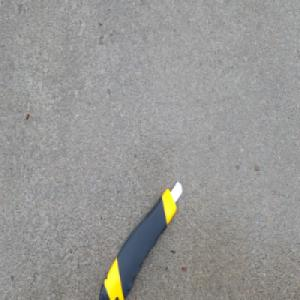Cutter: (96, 178, 183, 300)
